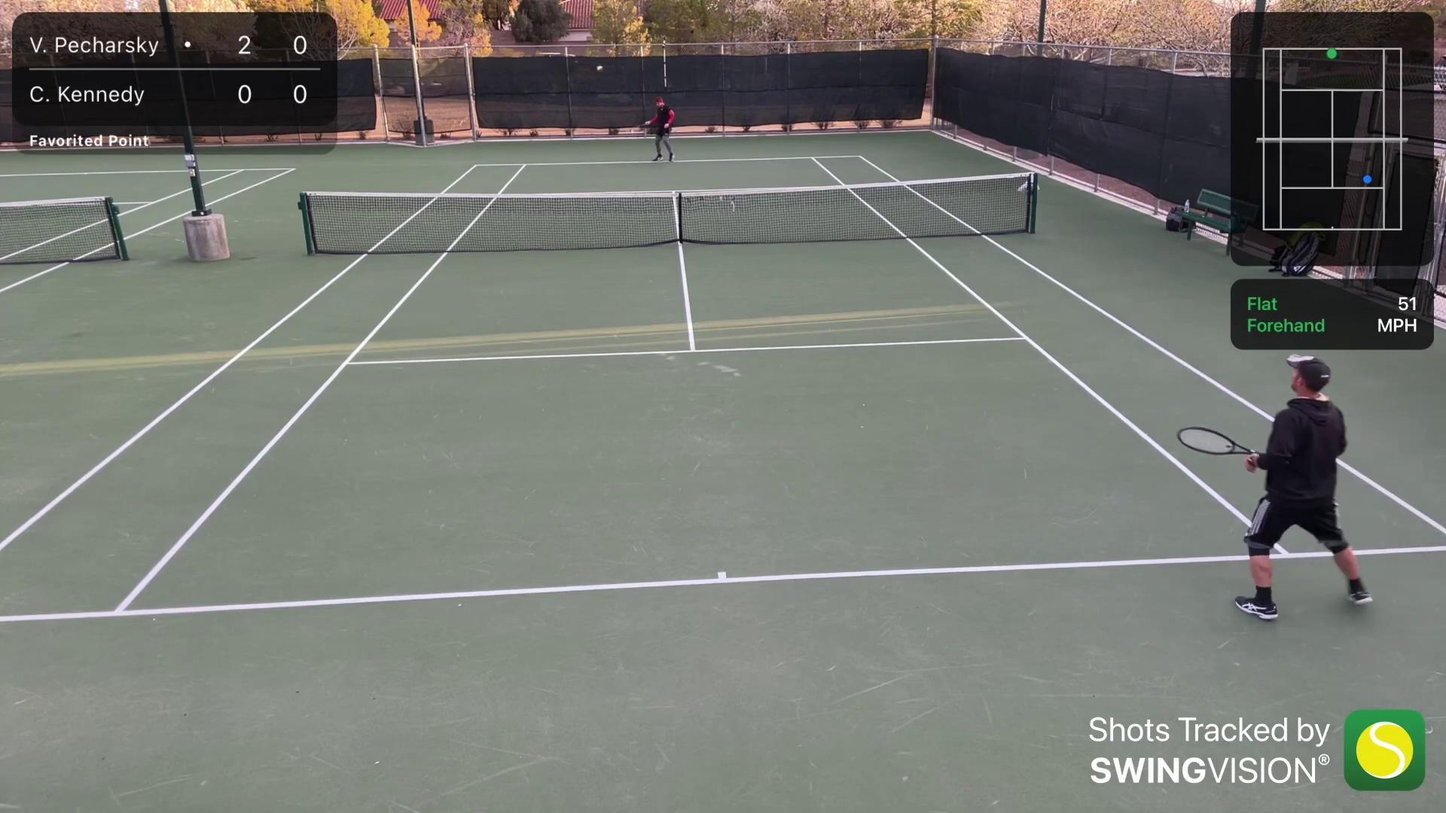ball: (595, 65, 604, 72), (501, 189, 503, 190)
